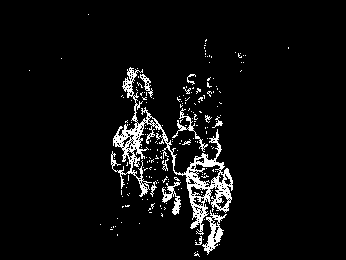person: (186, 138, 234, 260), (197, 73, 223, 142)
